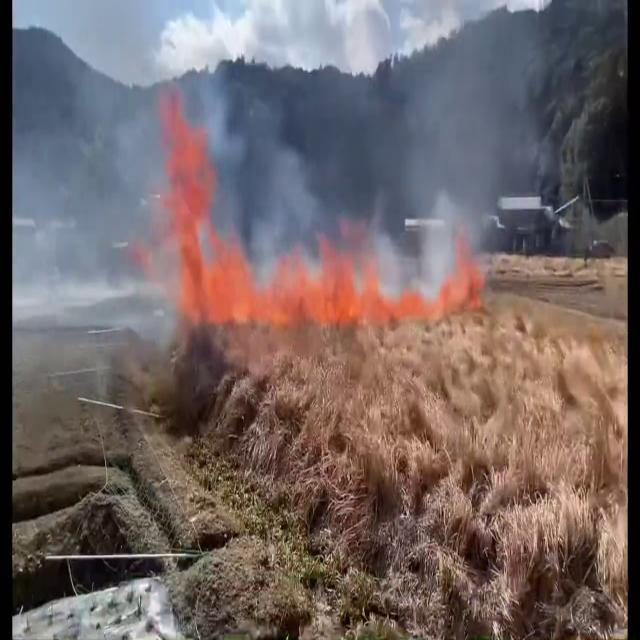Fire: (145, 90, 379, 330), (384, 244, 504, 338)
Smoke: (17, 0, 180, 393), (388, 0, 542, 274)
